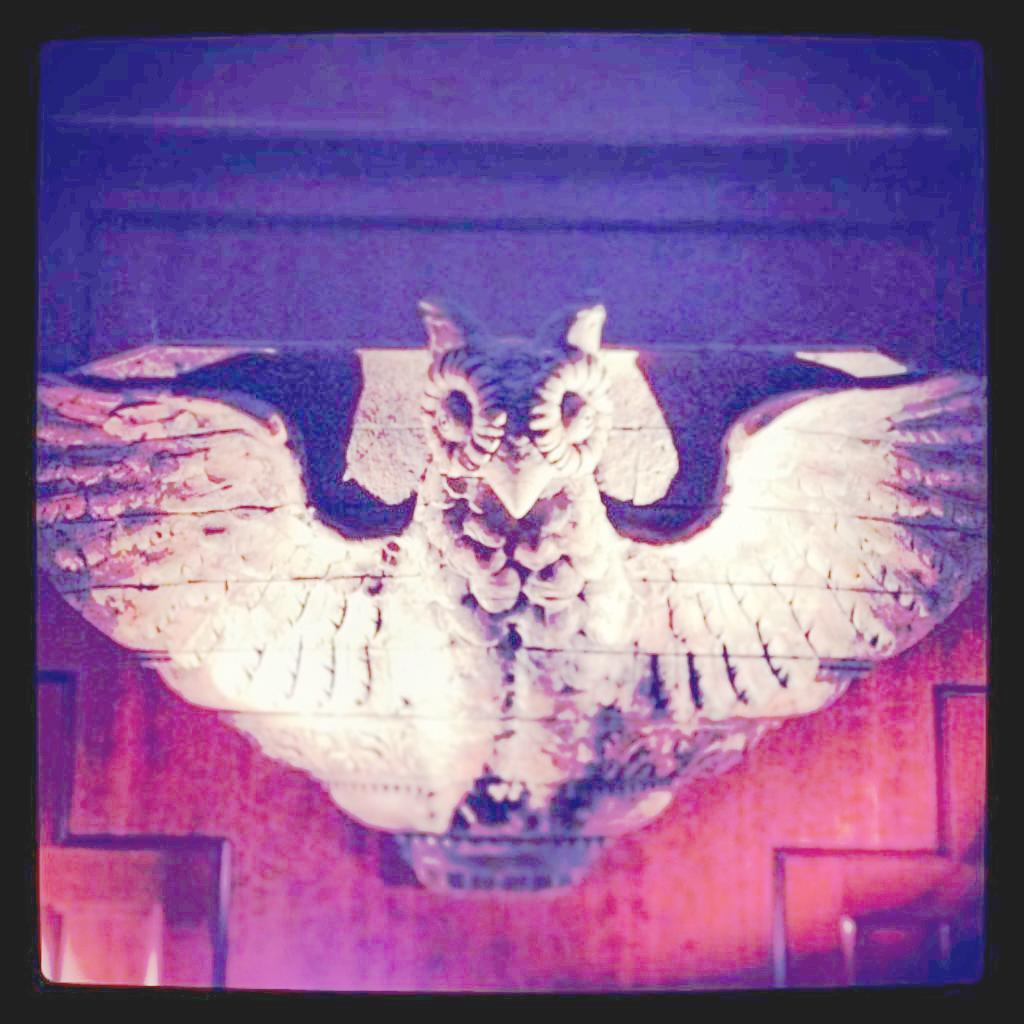Owl: (13, 338, 989, 846)
